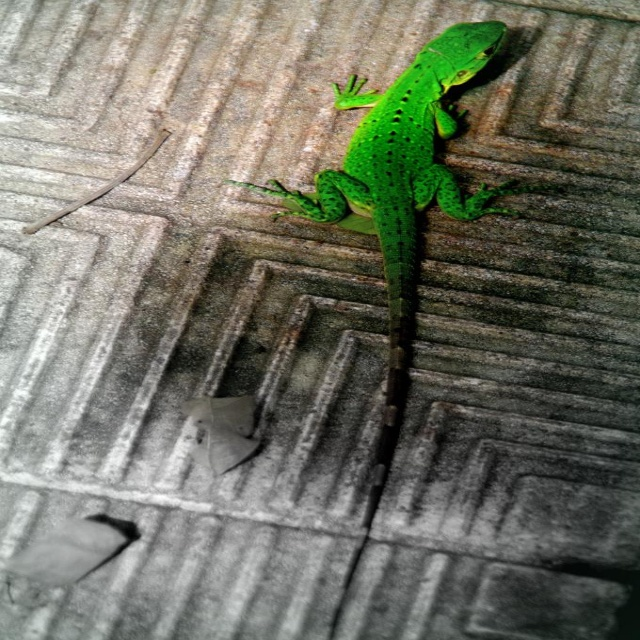Lizard: (229, 20, 511, 516)
